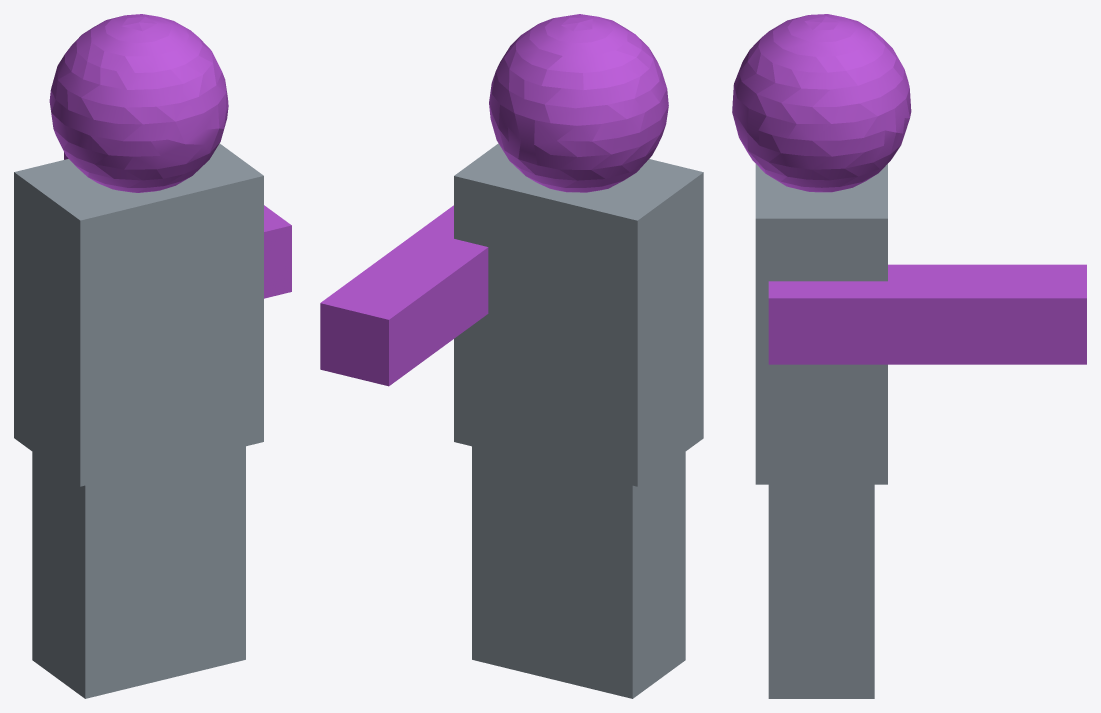
The model's file is CH_CensorOperative_LOD1.glb.
The picture shows the model from 3 angles, left to right: view 1: azimuth 30°, elevation 25°; view 2: azimuth 150°, elevation 25°; view 3: azimuth 270°, elevation 25°; orthographic projection.
Visible parts, largest first — view 1: Head; view 2: Head; view 3: Head.
Part boxes in pixels (left/top/right/bottom): Head: left=14, top=14, right=291, bottom=698; Head: left=320, top=14, right=703, bottom=698; Head: left=732, top=14, right=1086, bottom=698.
Size of the model in its own units: 61.75 by 172 by 86.99.
